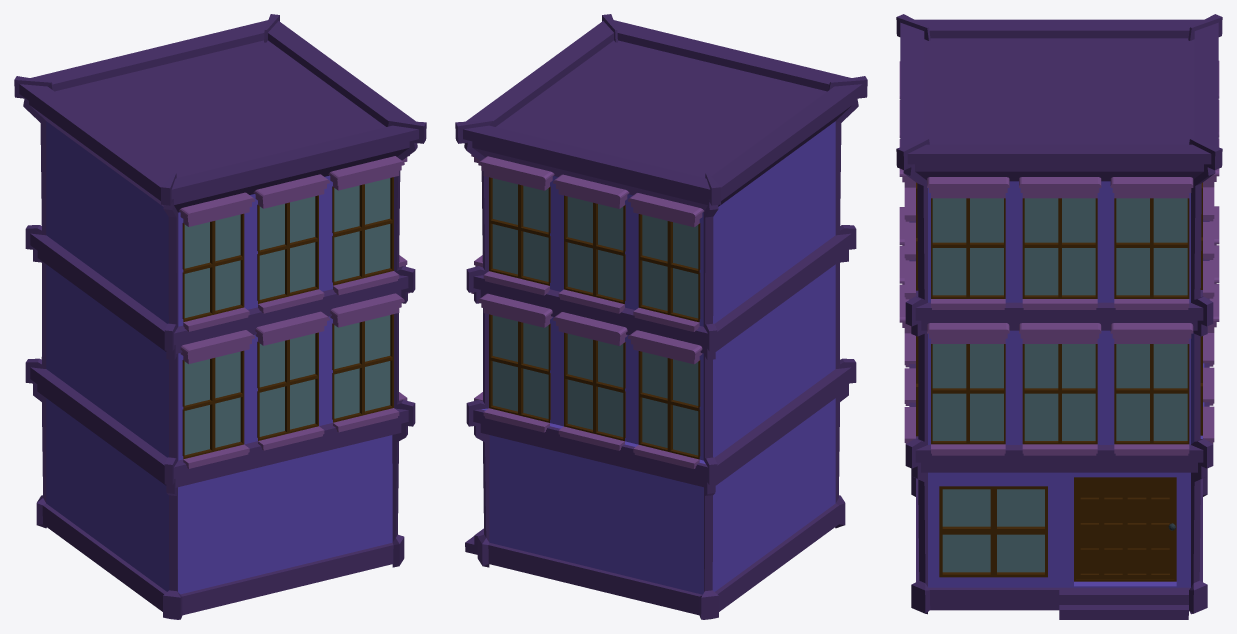
File: 3- Purple.fbx
The picture shows the model from 3 angles, left to right: view 1: azimuth 30°, elevation 25°; view 2: azimuth 150°, elevation 25°; view 3: azimuth 270°, elevation 25°; orthographic projection. The views are drawn at different scales.
Parts seen in each view (by area): view 1: Cube.004; view 2: Cube.004; view 3: Cube.004.
Boxes of the visible parts, x1,y1,x2,y2 form: Cube.004: (14,14,426,619); Cube.004: (455,14,867,619); Cube.004: (896,14,1222,619).
Size of the model in its own units: 1421 by 1435 by 2274.
